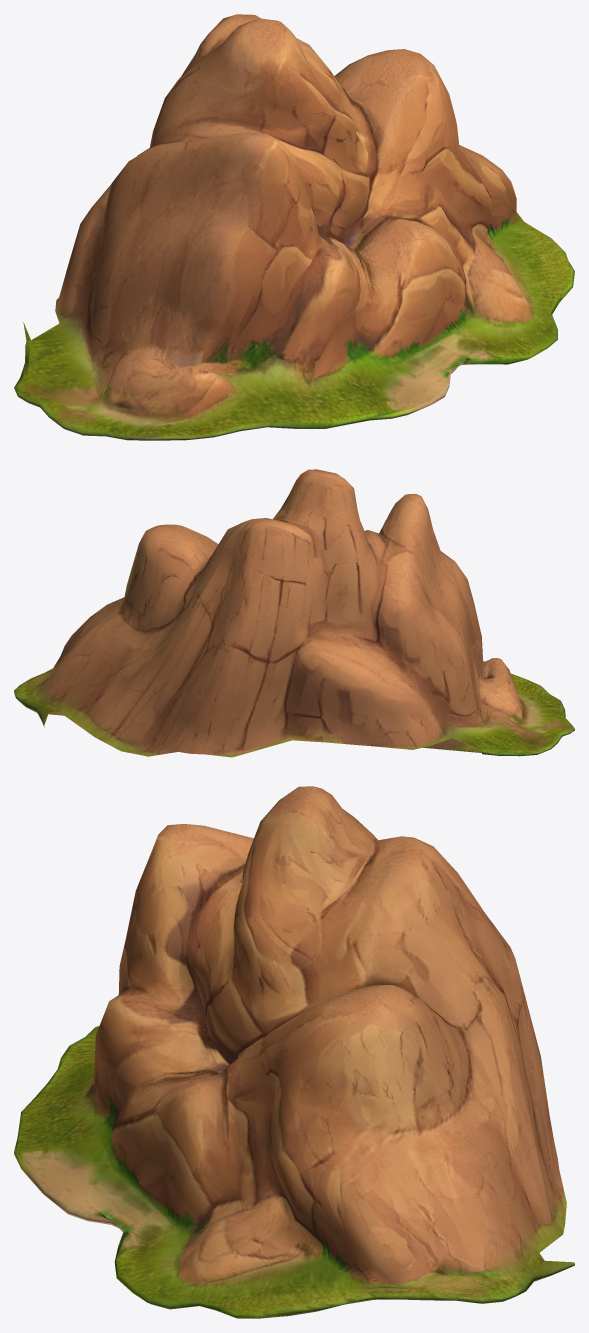
File: void_abajo_closed.glb
The picture shows the model from 3 angles, top to bottom: view 1: azimuth 30°, elevation 25°; view 2: azimuth 150°, elevation 25°; view 3: azimuth 270°, elevation 25°; orthographic projection. The views are drawn at different scales.
Visible parts, largest first — view 1: rocapuerta void; view 2: rocapuerta void; view 3: rocapuerta void.
Boxes of the visible parts, x1=… form: rocapuerta void: x1=14, y1=14, x2=574, y2=440; rocapuerta void: x1=14, y1=469, x2=574, y2=757; rocapuerta void: x1=14, y1=786, x2=574, y2=1318.
Size of what is drawn, in the model's own units: 17.98 by 9.86 by 13.15.
1 material, 1 textured.
